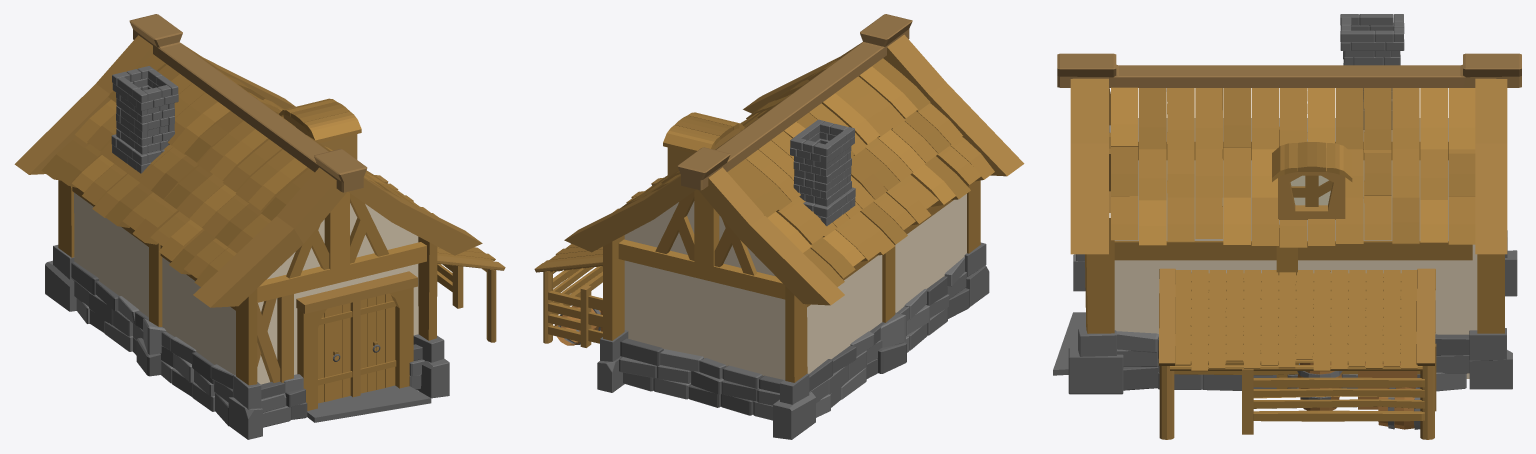
Rendered from sclad2.fbx.
3 views of the same model, side by side, from view 1: azimuth 30°, elevation 25°; view 2: azimuth 150°, elevation 25°; view 3: azimuth 270°, elevation 25° (orthographic). The views are drawn at different scales.
Parts seen in each view (by area): view 1: Cube.031, Cube.005, Cube.030, Cube.029, Cube.051, Cube.095, Cube.006, Cube.037, Plane.001, Cube.020, Cube.139, Cube.028 (+16 smaller); view 2: Cube.031, Cube.005, Plane.001, Cube.030, Cube.029, Cube.022, Cube.051, Cube.095, Cube.006, Cube.028, Cube.034, Cube.012 (+11 smaller); view 3: Cube.031, Cube.017, Cube.005, Cube.030, Cube.029, Cube.015, Plane, Cube.051, Cube.007, Cube.095, Cube.032, Circle.001 (+12 smaller).
Boxes of the visible parts, <box> form: Cube.031: <box>41,54,415,286</box>; Cube.005: <box>45,180,449,439</box>; Cube.030: <box>14,35,482,307</box>; Cube.029: <box>129,14,367,192</box>; Cube.051: <box>71,262,233,426</box>; Cube.095: <box>111,66,178,173</box>; Cube.006: <box>257,192,426,302</box>; Cube.037: <box>324,294,385,401</box>; Plane.001: <box>257,203,418,384</box>; Cube.020: <box>297,287,413,410</box>; Cube.139: <box>307,385,431,422</box>; Cube.028: <box>286,193,388,278</box>; Cube.031: <box>618,58,994,286</box>; Cube.005: <box>597,180,989,439</box>; Plane.001: <box>624,201,785,379</box>; Cube.030: <box>564,34,1024,305</box>; Cube.029: <box>677,14,912,190</box>; Cube.022: <box>619,338,783,420</box>; Cube.051: <box>809,257,969,417</box>; Cube.095: <box>790,119,855,226</box>; Cube.006: <box>618,189,785,299</box>; Cube.028: <box>655,191,757,275</box>; Cube.034: <box>663,112,744,153</box>; Cube.012: <box>548,291,580,341</box>; Cube.031: <box>1111,87,1475,247</box>; Cube.017: <box>1175,270,1417,371</box>; Cube.005: <box>1068,118,1517,394</box>; Cube.030: <box>1070,78,1507,254</box>; Cube.029: <box>1057,53,1521,87</box>; Cube.015: <box>1253,377,1424,421</box>; Plane: <box>1114,141,1472,260</box>; Cube.051: <box>1116,331,1469,391</box>; Cube.007: <box>1158,268,1435,365</box>; Cube.095: <box>1340,14,1404,129</box>; Cube.032: <box>1278,148,1345,219</box>; Circle.001: <box>1159,366,1434,439</box>.
Size of the model in its own units: 450 by 325 by 491.
